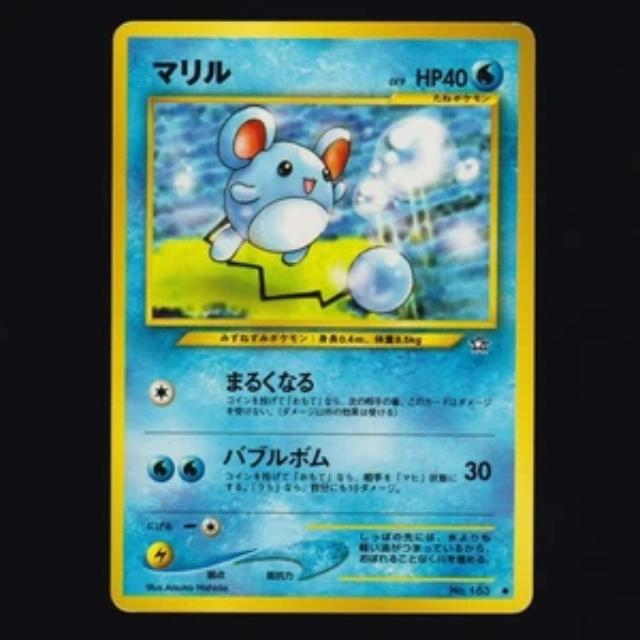Card: (104, 11, 540, 621)
Name: (144, 54, 239, 89)
